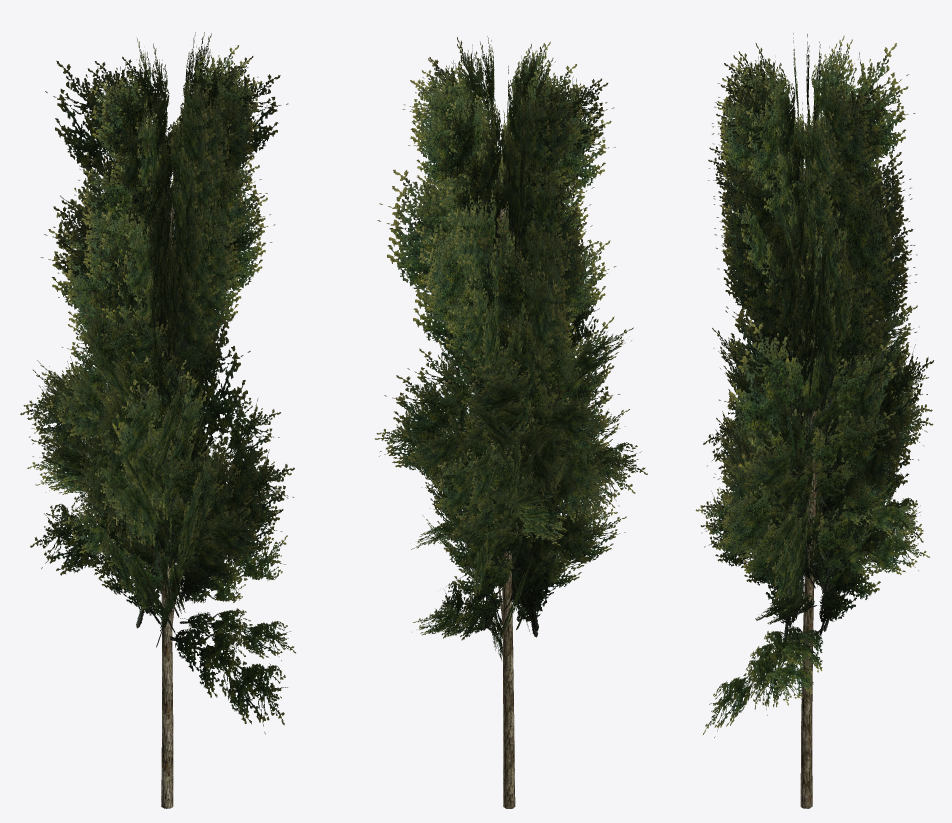
The model's file is far.glb.
3 renders of one model, left to right at view 1: azimuth 30°, elevation 25°; view 2: azimuth 150°, elevation 25°; view 3: azimuth 270°, elevation 25°, orthographic.
Parts seen in each view (by area): view 1: lod1, lod2; view 2: lod1, lod2; view 3: lod1, lod2.
Part boxes in pixels (<box>): lod1: <box>27,33,295,808</box>; lod2: <box>20,32,294,808</box>; lod1: <box>375,41,647,808</box>; lod2: <box>377,36,633,808</box>; lod1: <box>695,33,933,808</box>; lod2: <box>712,35,933,808</box>.
Bounding box in the file's own units: 11.86 × 40.22 × 11.63.
2 materials, 2 textured.
